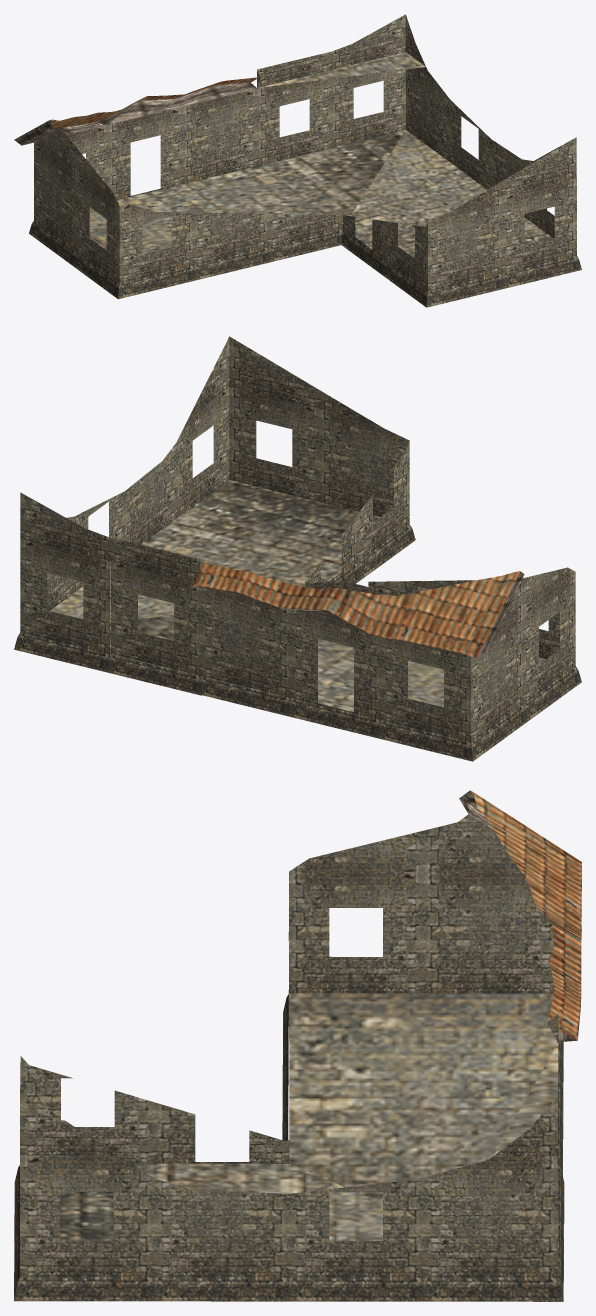
Rendered from s44_b_house_1_5_destroyed_1.dae.
3 renders of one model, top to bottom at view 1: azimuth 30°, elevation 25°; view 2: azimuth 150°, elevation 25°; view 3: azimuth 270°, elevation 25°, orthographic. The views are drawn at different scales.
Visible parts, largest first — view 1: Untitled; view 2: Untitled; view 3: Untitled.
Boxes of the visible parts, x1,y1,x2,y2 form: Untitled: (14,14,581,307); Untitled: (14,336,581,761); Untitled: (14,790,581,1301).
Size of the model in its own units: 125 by 101 by 42.44.
Materials: 1 (1 with a texture image).
